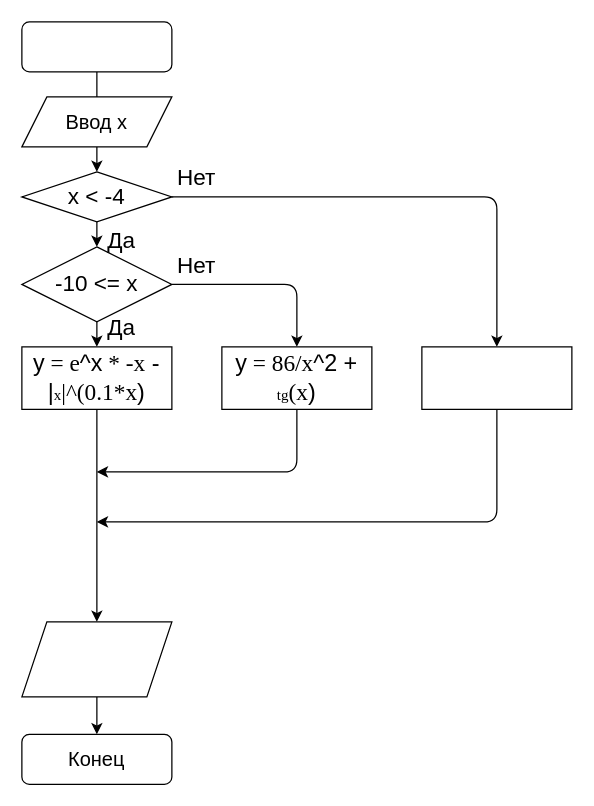
Image size: 594x806. Some labels were removed from this diagram. Here are the shapes that lost their labels. From the top down, the box of each, then its label:
(21, 21, 172, 72): Начало
(421, 346, 572, 409): y = x ^3 / cos ( x ) – lg (| x |)/ cos (2* x )
(21, 621, 172, 697): Вывод( "y равен: ", y)
